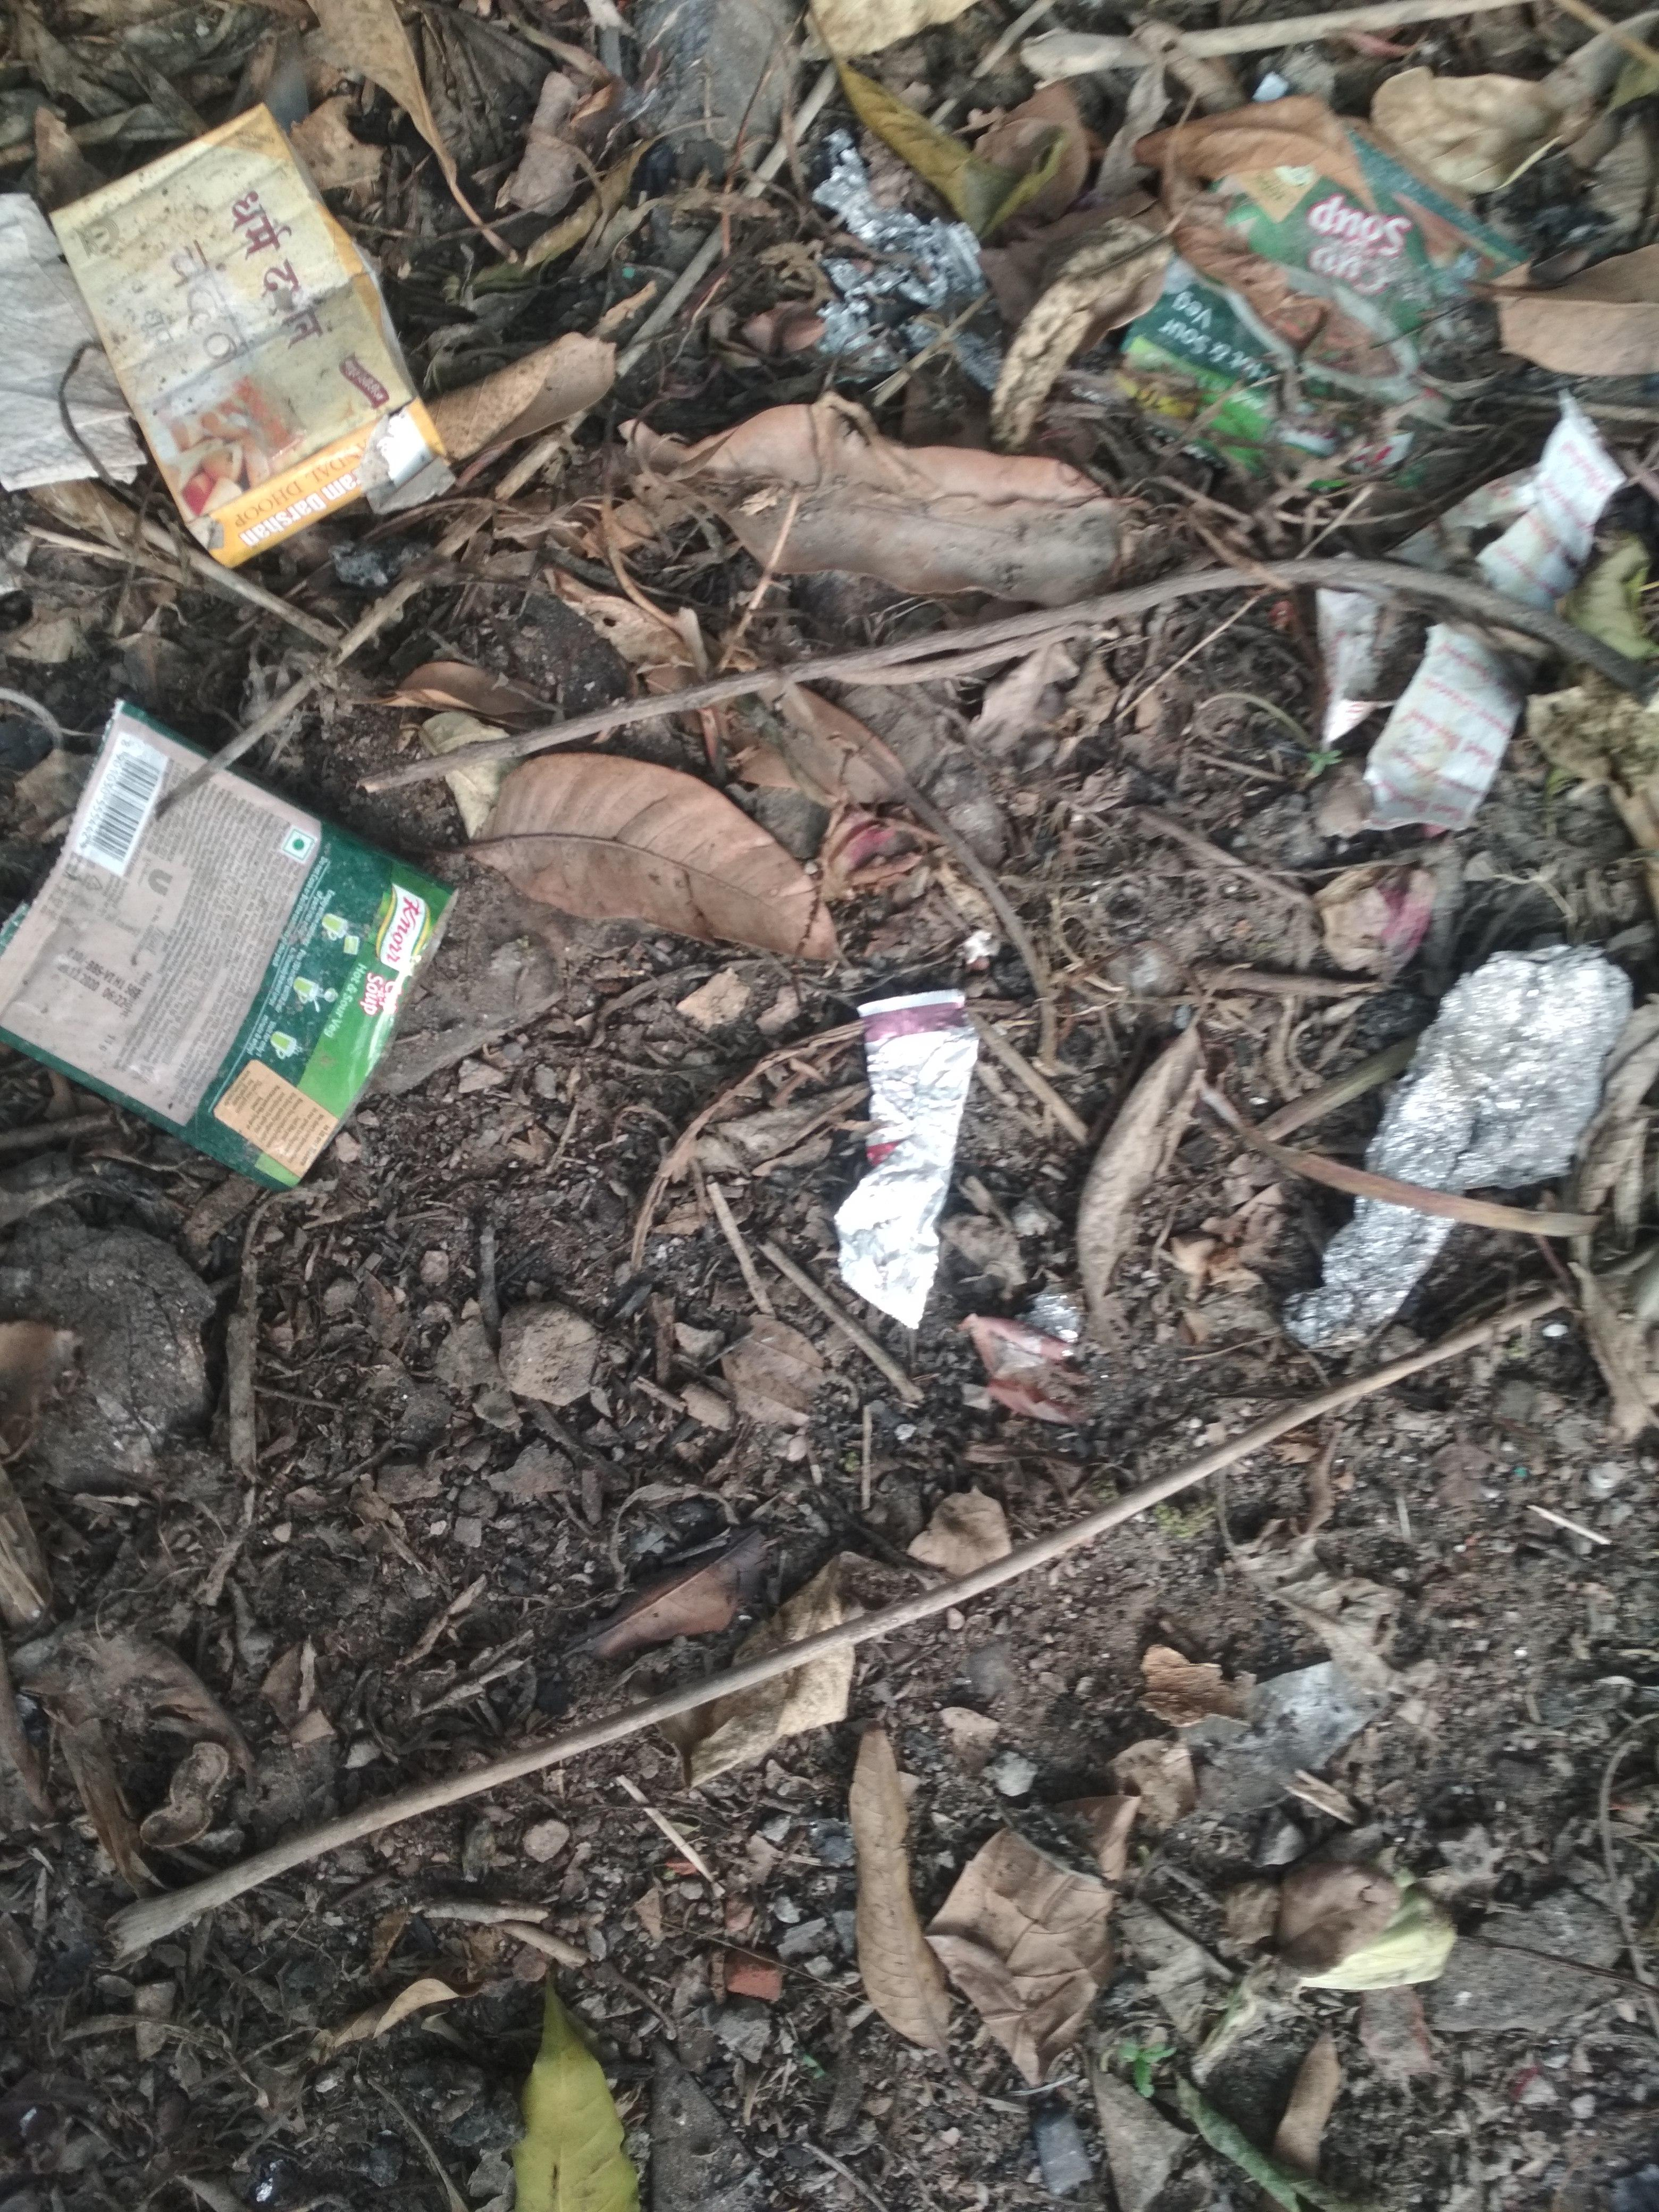trash: (0, 91, 465, 1207)
